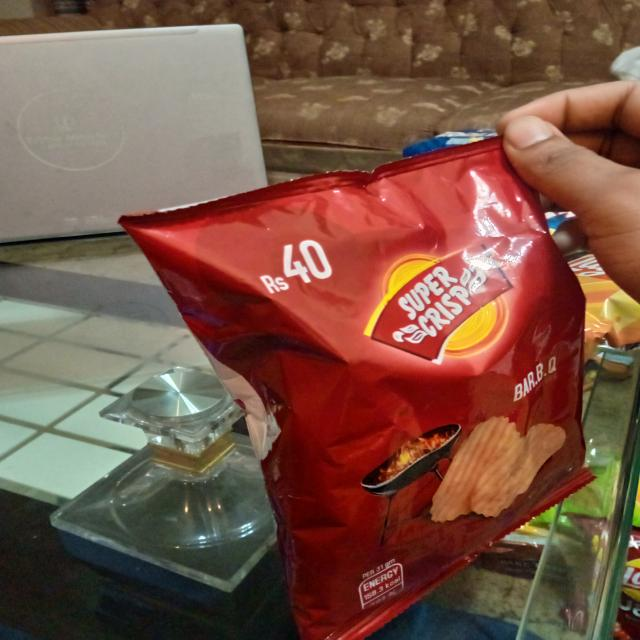Plastic: (109, 132, 624, 640)
